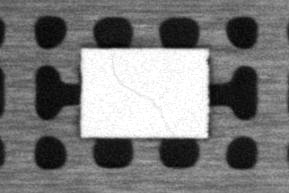DIE_CRACK: (111, 59, 171, 131)
